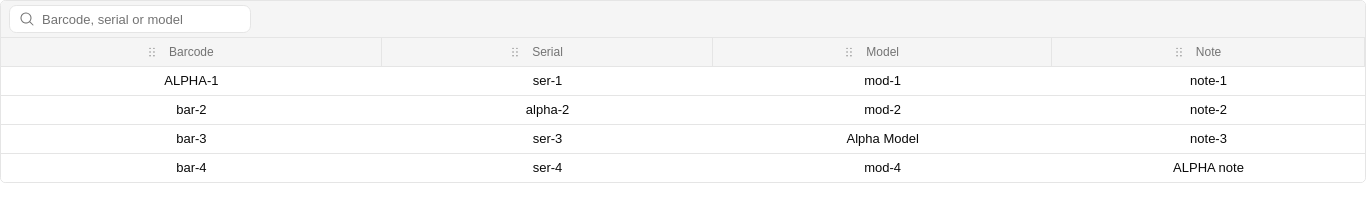
it: table text search › ignores columns the caller left out of the search
Step 1. Type "alpha" into the field labelled "Barcode, serial or model" → {"x": 130, "y": 19}, box [9,5,251,33]
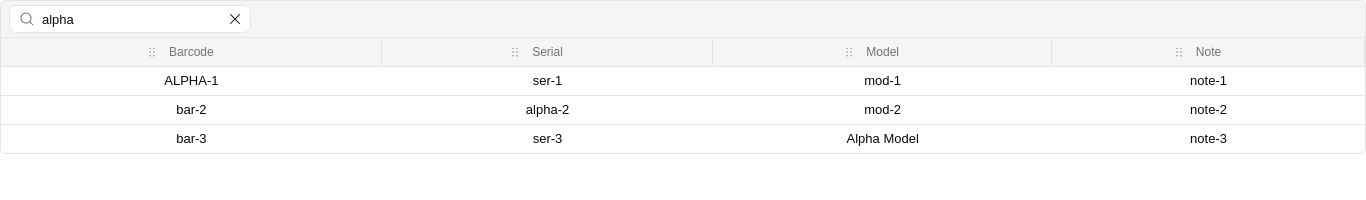
Check: the text "ALPHA note" is gone
